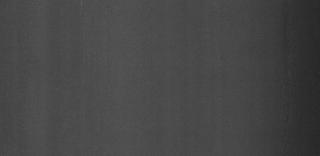silk spot: (72, 34, 105, 86)
